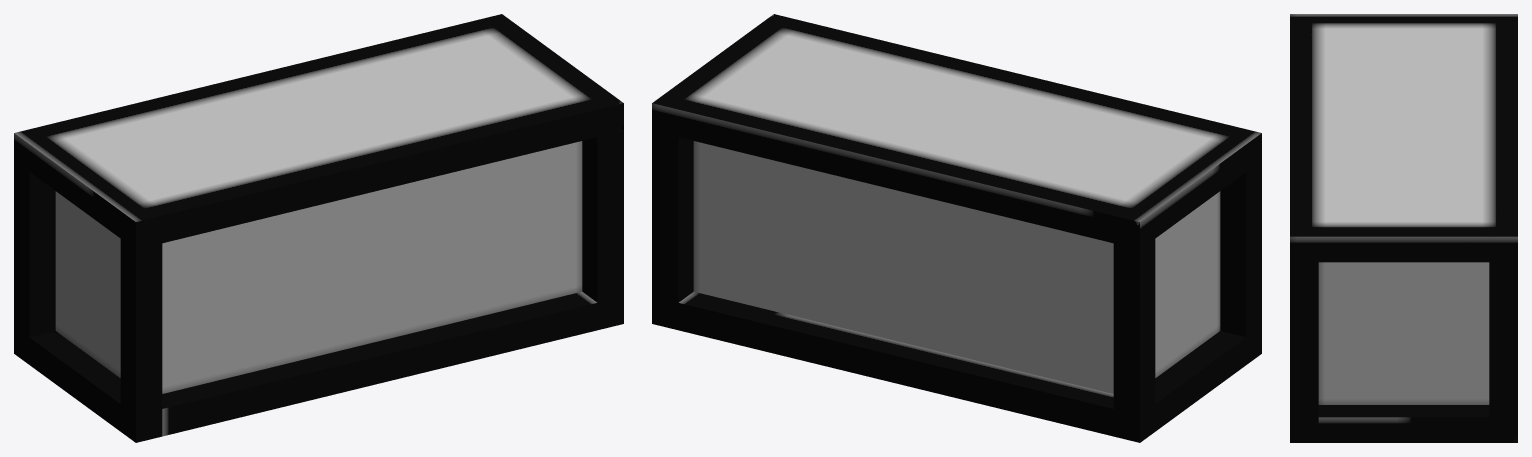
Rendered from comanda.fbx.
3 views of the same model, side by side, from view 1: azimuth 30°, elevation 25°; view 2: azimuth 150°, elevation 25°; view 3: azimuth 270°, elevation 25° (orthographic). The views are drawn at different scales.
Parts seen in each view (by area): view 1: cube_5, cube_6, cube_7, cube_3, cube_4, cube_1, cube_8; view 2: cube_5, cube_6, cube, cube_1, cube_2, cube_3, cube_8; view 3: cube_5, cube_6, cube_9, cube_2, cube_4.
Part boxes in pixels (x1,y1,x2,y2): cube_5: [14, 14, 623, 249]; cube_6: [55, 141, 582, 393]; cube_7: [162, 291, 597, 436]; cube_3: [120, 239, 162, 442]; cube_4: [582, 129, 623, 330]; cube_1: [14, 161, 55, 364]; cube_8: [29, 331, 120, 431]; cube_5: [652, 14, 1261, 249]; cube_6: [693, 141, 1220, 393]; cube: [678, 291, 1113, 436]; cube_1: [1113, 239, 1155, 442]; cube_2: [652, 131, 693, 330]; cube_3: [1220, 161, 1261, 364]; cube_8: [1155, 331, 1246, 431]; cube_5: [1290, 14, 1517, 262]; cube_6: [1318, 262, 1489, 404]; cube_9: [1318, 405, 1489, 442]; cube_2: [1489, 262, 1517, 442]; cube_4: [1290, 262, 1318, 442].
Size of the model in its own units: 231 by 100 by 100.
1 material, 1 textured.
